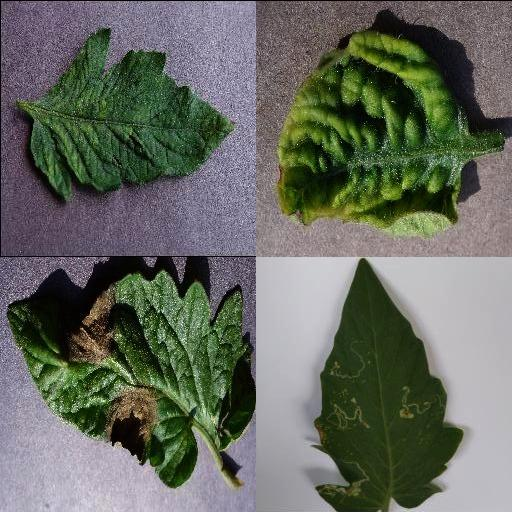Late Blight: (5, 269, 256, 488)
Leaf Miner: (313, 257, 463, 512)
Mosaic Virus: (31, 29, 237, 201)
Yellow Leaf Curl Virus: (275, 29, 473, 235)
